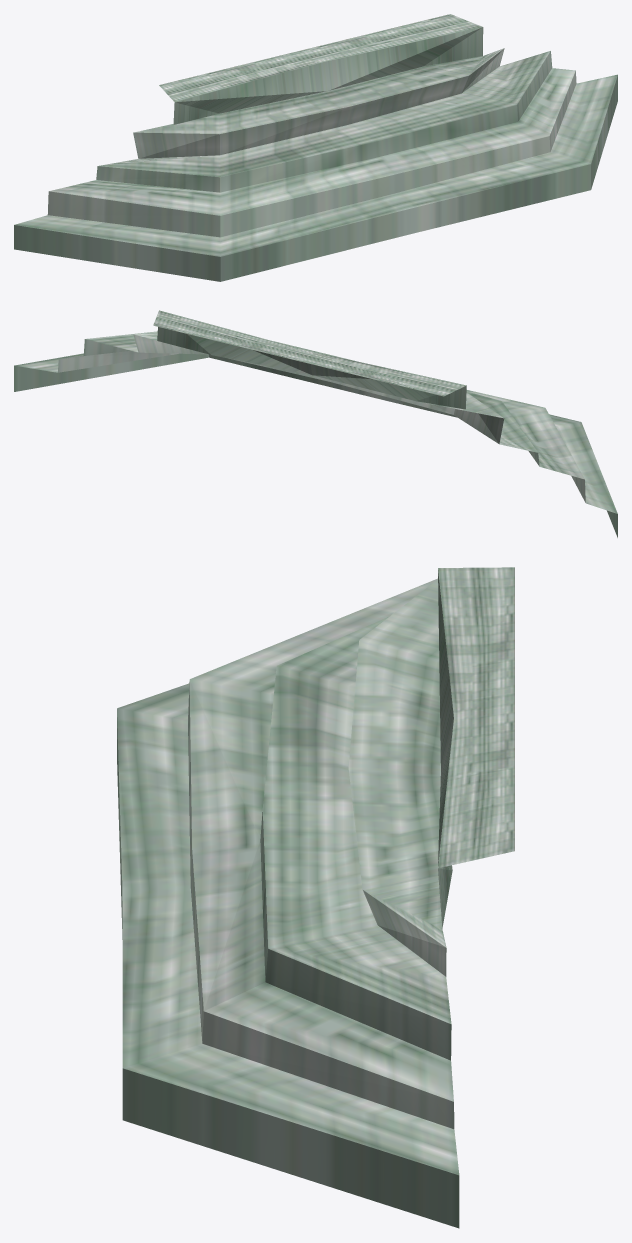
Rendered from TTreppeEingang_2353.glb.
The picture shows the model from 3 angles, top to bottom: view 1: azimuth 30°, elevation 25°; view 2: azimuth 150°, elevation 25°; view 3: azimuth 270°, elevation 25°; orthographic projection. The views are drawn at different scales.
Visible parts, largest first — view 1: polySurfaceShape1009; view 2: polySurfaceShape1009; view 3: polySurfaceShape1009.
Boxes of the visible parts, box(x1,y1,x2,y2) form: polySurfaceShape1009: box(14, 14, 617, 281); polySurfaceShape1009: box(14, 310, 617, 537); polySurfaceShape1009: box(117, 567, 514, 1228).
Bounding box in the file's own units: 0.9798 × 0.1771 × 0.2801.
Materials: 1 (1 with a texture image).
